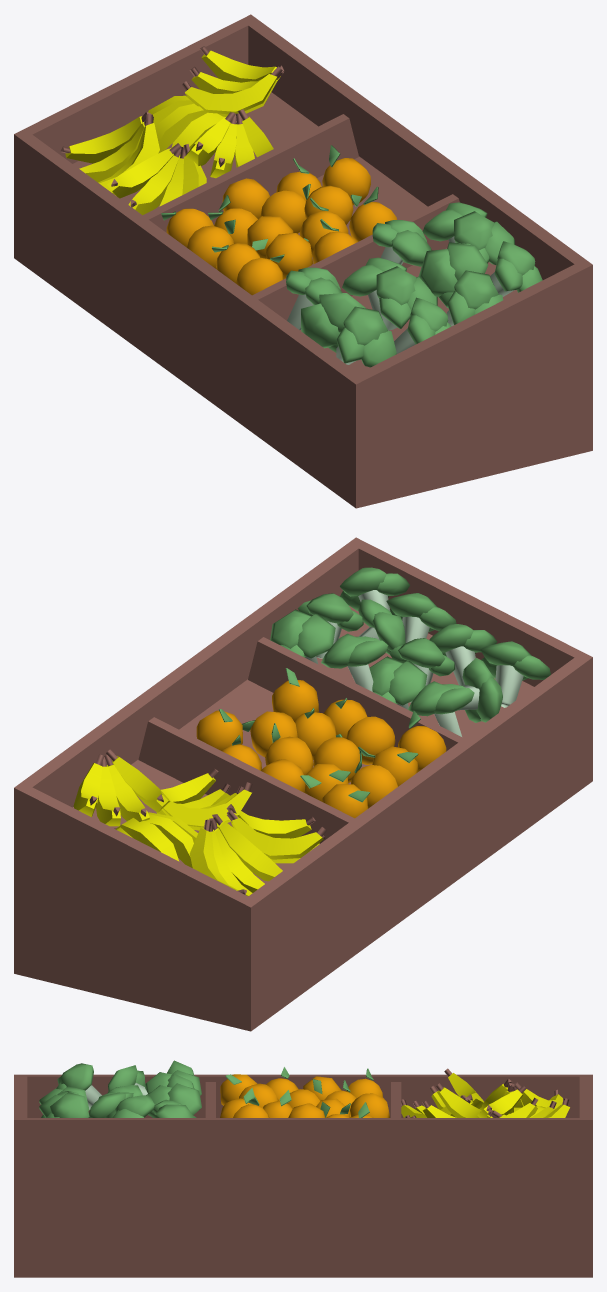
File: Shelves1.fbx
3 views of the same model, one above another, from view 1: azimuth 30°, elevation 25°; view 2: azimuth 150°, elevation 25°; view 3: azimuth 270°, elevation 25° (orthographic). The views are drawn at different scales.
Visible parts, largest first — view 1: Shelves1, broccoli, bananas, oranges; view 2: Shelves1, broccoli, oranges, bananas; view 3: Shelves1, broccoli, oranges, bananas.
Boxes of the visible parts, x1,y1,x2,y2 form: Shelves1: [14, 14, 592, 508]; broccoli: [286, 202, 542, 367]; bananas: [60, 46, 284, 215]; oranges: [161, 145, 396, 295]; Shelves1: [14, 537, 592, 1031]; broccoli: [270, 567, 550, 736]; oranges: [196, 668, 446, 818]; bananas: [73, 749, 326, 896]; Shelves1: [14, 1074, 592, 1277]; broccoli: [39, 1060, 201, 1117]; oranges: [220, 1067, 389, 1117]; bananas: [401, 1068, 569, 1117].
Bounding box in the file's own units: 200 × 154 × 500.
